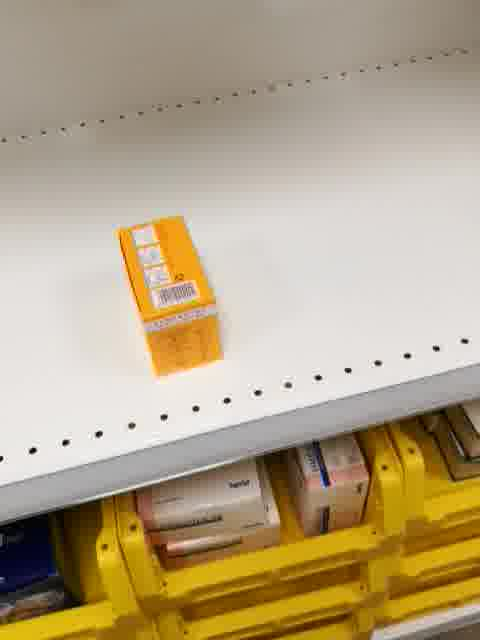jasminetea: (114, 213, 226, 381)
